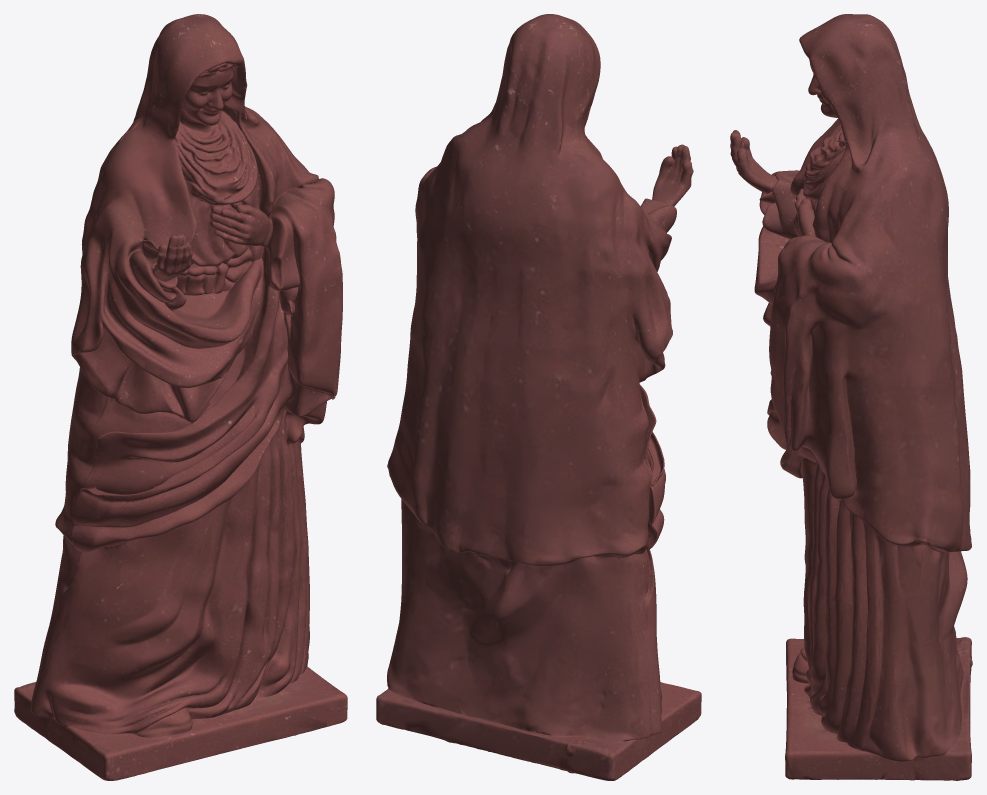
The model's file is SANTA ANA-mobile.glb.
3 views of the same model, side by side, from view 1: azimuth 30°, elevation 25°; view 2: azimuth 150°, elevation 25°; view 3: azimuth 270°, elevation 25° (orthographic). The views are drawn at different scales.
Size of the model in its own units: 0.8017 by 2 by 0.6203.
1 material, 1 textured.
